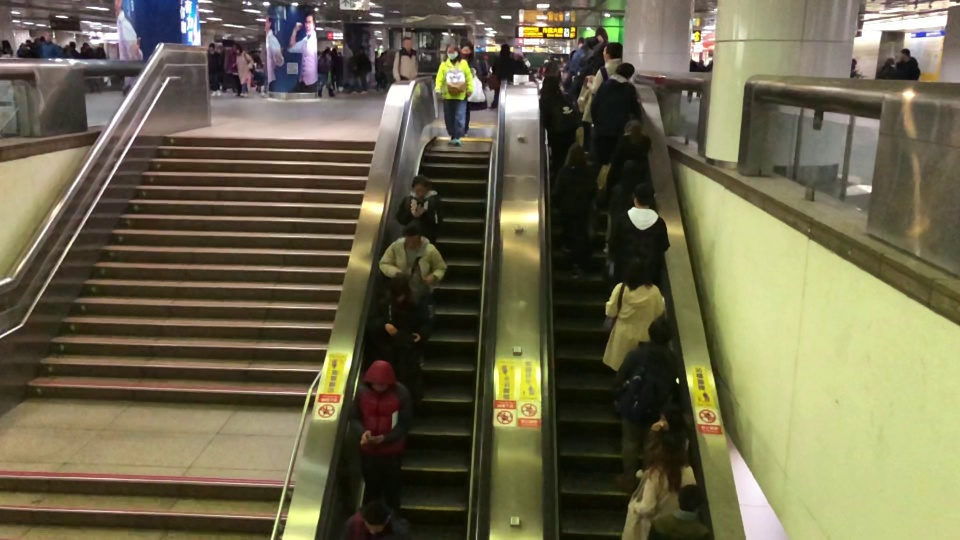person_head: (360, 360, 397, 393), (358, 500, 391, 533), (646, 314, 677, 349), (649, 426, 677, 463), (622, 257, 653, 288), (400, 221, 423, 249), (629, 184, 654, 209), (560, 144, 586, 168), (677, 486, 700, 511), (410, 174, 431, 199), (612, 61, 636, 79), (390, 278, 407, 303), (540, 76, 559, 96), (605, 42, 623, 61), (622, 121, 643, 136), (443, 44, 459, 61), (458, 41, 472, 59), (581, 36, 598, 49), (499, 45, 512, 59), (596, 43, 611, 55), (401, 37, 413, 50), (899, 48, 911, 61), (1, 39, 12, 51), (848, 58, 858, 71), (883, 57, 895, 67), (44, 32, 54, 42), (238, 45, 248, 55), (207, 42, 216, 52), (82, 42, 90, 49), (256, 43, 262, 52), (320, 52, 327, 59), (68, 41, 75, 47), (230, 45, 237, 51)
person_vbox: (607, 184, 675, 359), (616, 313, 694, 460), (586, 61, 643, 251), (346, 360, 414, 515), (621, 427, 714, 540), (377, 221, 445, 367), (596, 257, 669, 370), (372, 277, 436, 405), (604, 121, 653, 274), (393, 174, 445, 317), (553, 144, 597, 279), (434, 43, 474, 146), (645, 485, 719, 540), (538, 76, 581, 165), (581, 43, 624, 106), (339, 501, 403, 540), (485, 44, 517, 108), (455, 42, 473, 136), (574, 42, 607, 90), (563, 36, 599, 76), (391, 36, 420, 82), (204, 41, 224, 99), (236, 44, 256, 98), (223, 45, 241, 97), (897, 47, 922, 82), (316, 51, 335, 97), (253, 42, 267, 93), (874, 56, 897, 82), (40, 31, 57, 60), (60, 40, 81, 59), (847, 58, 862, 80), (0, 39, 15, 56), (80, 40, 94, 58)
